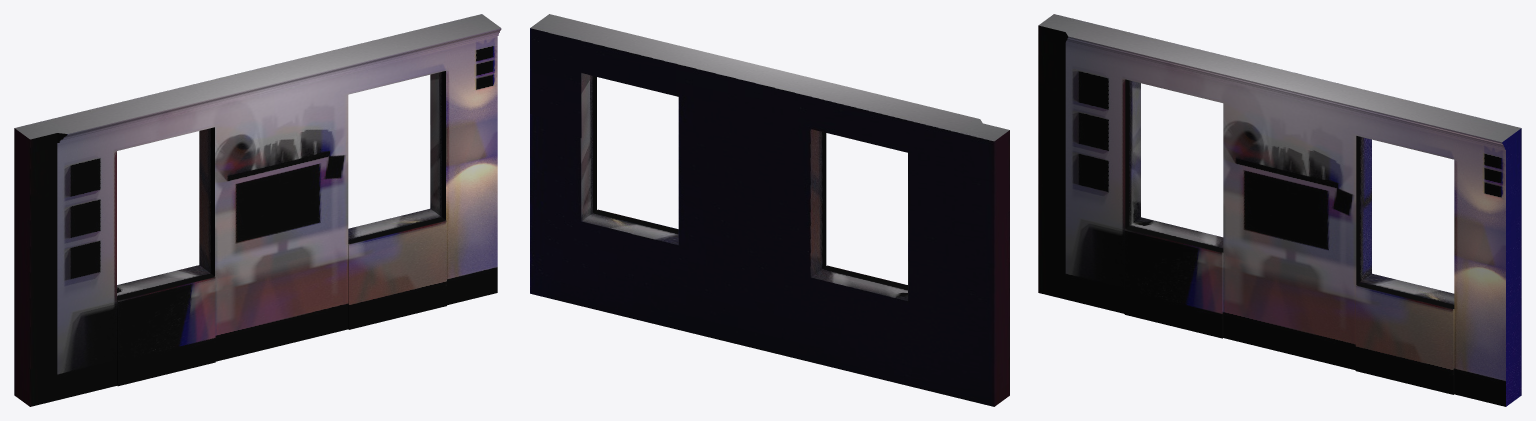
File: wall_right.glb
3 renders of one model, left to right at view 1: azimuth 30°, elevation 25°; view 2: azimuth 150°, elevation 25°; view 3: azimuth 330°, elevation 25°, orthographic.
Visible parts, largest first — view 1: wall_right; view 2: wall_right; view 3: wall_right.
Part boxes in pixels (box(x1,y1,x2,y2)): wall_right: box(14, 14, 501, 406); wall_right: box(530, 14, 1009, 406); wall_right: box(1038, 14, 1521, 406).
Size of the model in its own units: 34.4 by 18.8 by 2.48.
2 materials, 2 textured.
